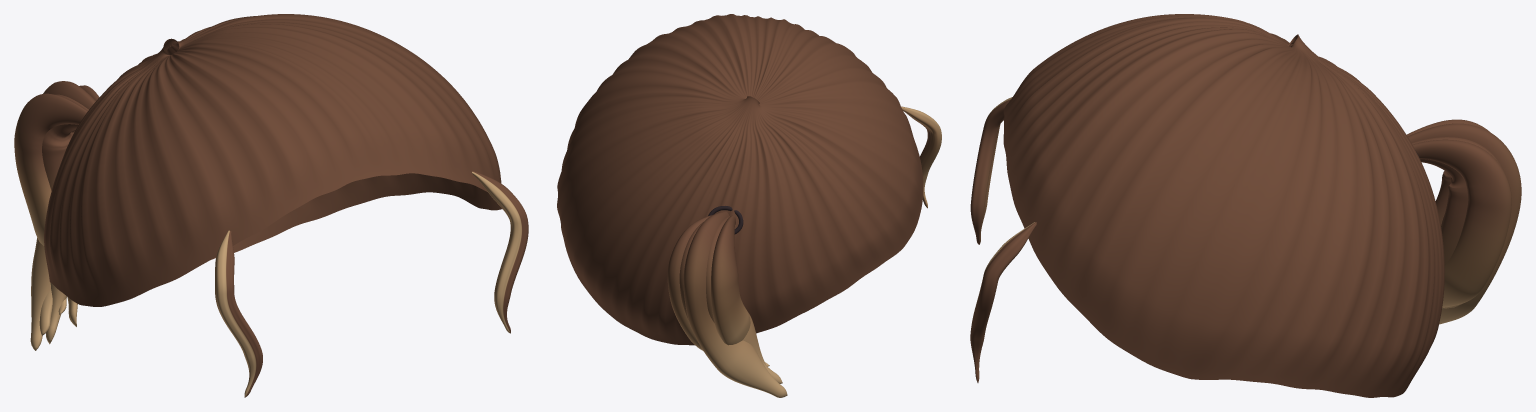
Rendered from Feminine-ponytail-ombre-scarf-hair.glb.
3 renders of one model, left to right at view 1: azimuth 30°, elevation 25°; view 2: azimuth 150°, elevation 25°; view 3: azimuth 270°, elevation 25°, orthographic. The views are drawn at different scales.
Visible parts, largest first — view 1: Hair / swept roots220, Hair / rounded tail220 0, Hair / adjustable front216 1, Hair / adjustable front216 -1, Hair / rounded tail220 2, Hair / rounded tail220 1; view 2: Hair / swept roots220, Hair / rounded tail220 2, Hair / rounded tail220 0, Hair / rounded tail220 4, Hair / adjustable front216 -1, Hair / rounded tail220 1, Hair / rounded tail220 3; view 3: Hair / swept roots220, Hair / rounded tail220 4, Hair / rounded tail220 2, Hair / adjustable front216 1, Hair / adjustable front216 -1, Hair / rounded tail220 3.
Boxes of the visible parts, x1=… form: Hair / swept roots220: x1=44, y1=14, x2=502, y2=306; Hair / rounded tail220 0: x1=14, y1=93, x2=87, y2=326; Hair / adjustable front216 1: x1=472, y1=171, x2=528, y2=333; Hair / adjustable front216 -1: x1=215, y1=230, x2=262, y2=397; Hair / rounded tail220 2: x1=30, y1=81, x2=95, y2=350; Hair / rounded tail220 1: x1=42, y1=94, x2=88, y2=344; Hair / swept roots220: x1=557, y1=14, x2=923, y2=345; Hair / rounded tail220 2: x1=683, y1=211, x2=787, y2=397; Hair / rounded tail220 0: x1=711, y1=215, x2=750, y2=345; Hair / rounded tail220 4: x1=667, y1=215, x2=769, y2=366; Hair / adjustable front216 -1: x1=901, y1=106, x2=941, y2=208; Hair / rounded tail220 1: x1=706, y1=216, x2=765, y2=364; Hair / rounded tail220 3: x1=679, y1=222, x2=782, y2=383; Hair / swept roots220: x1=1003, y1=14, x2=1444, y2=397; Hair / rounded tail220 4: x1=1413, y1=139, x2=1511, y2=307; Hair / rounded tail220 2: x1=1408, y1=123, x2=1521, y2=324; Hair / adjustable front216 1: x1=970, y1=222, x2=1036, y2=382; Hair / adjustable front216 -1: x1=970, y1=97, x2=1012, y2=244; Hair / rounded tail220 3: x1=1411, y1=137, x2=1502, y2=308.
Bounding box in the file's own units: 0.7726 × 0.6484 × 0.856.
Materials: 9 (8 with a texture image).
